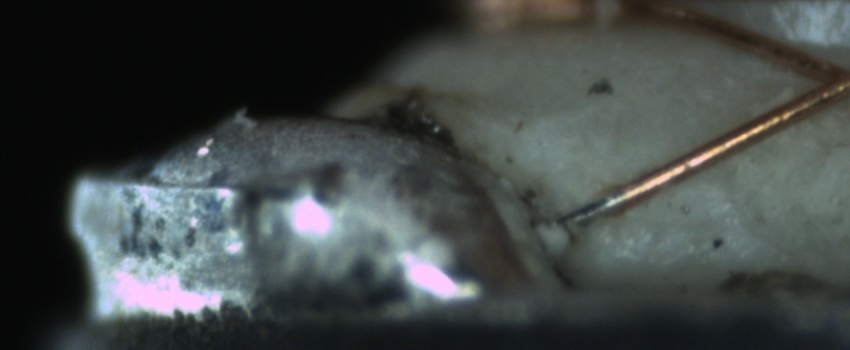CL: (795, 47, 850, 108)
TS: (546, 193, 621, 227)
